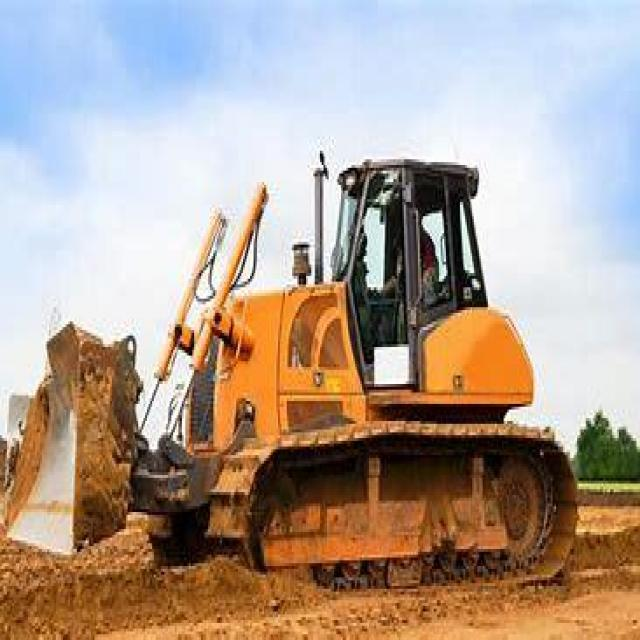Bulldozer: (4, 99, 605, 606)
